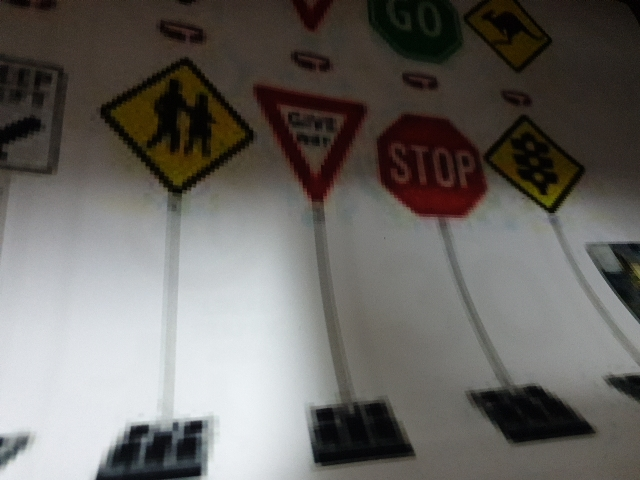giveway: (251, 81, 378, 198)
stop: (384, 104, 485, 223)
